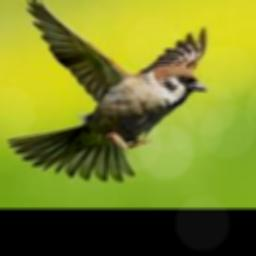Sparrow: (7, 0, 207, 182)
